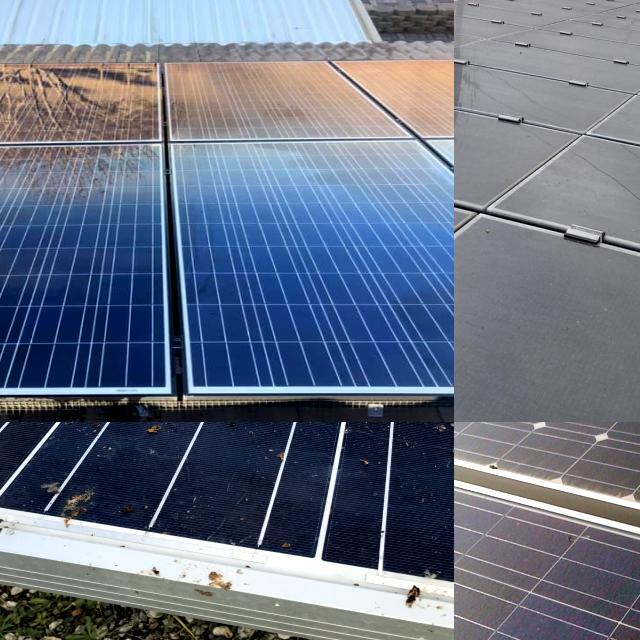bird: (17, 448, 148, 531), (0, 422, 91, 466), (137, 422, 204, 470), (13, 422, 121, 448), (12, 422, 112, 441), (415, 422, 454, 462), (207, 422, 277, 439)
crack: (123, 120, 454, 422), (0, 131, 231, 422), (142, 55, 438, 157), (0, 59, 209, 155)
dust: (454, 254, 509, 422)
